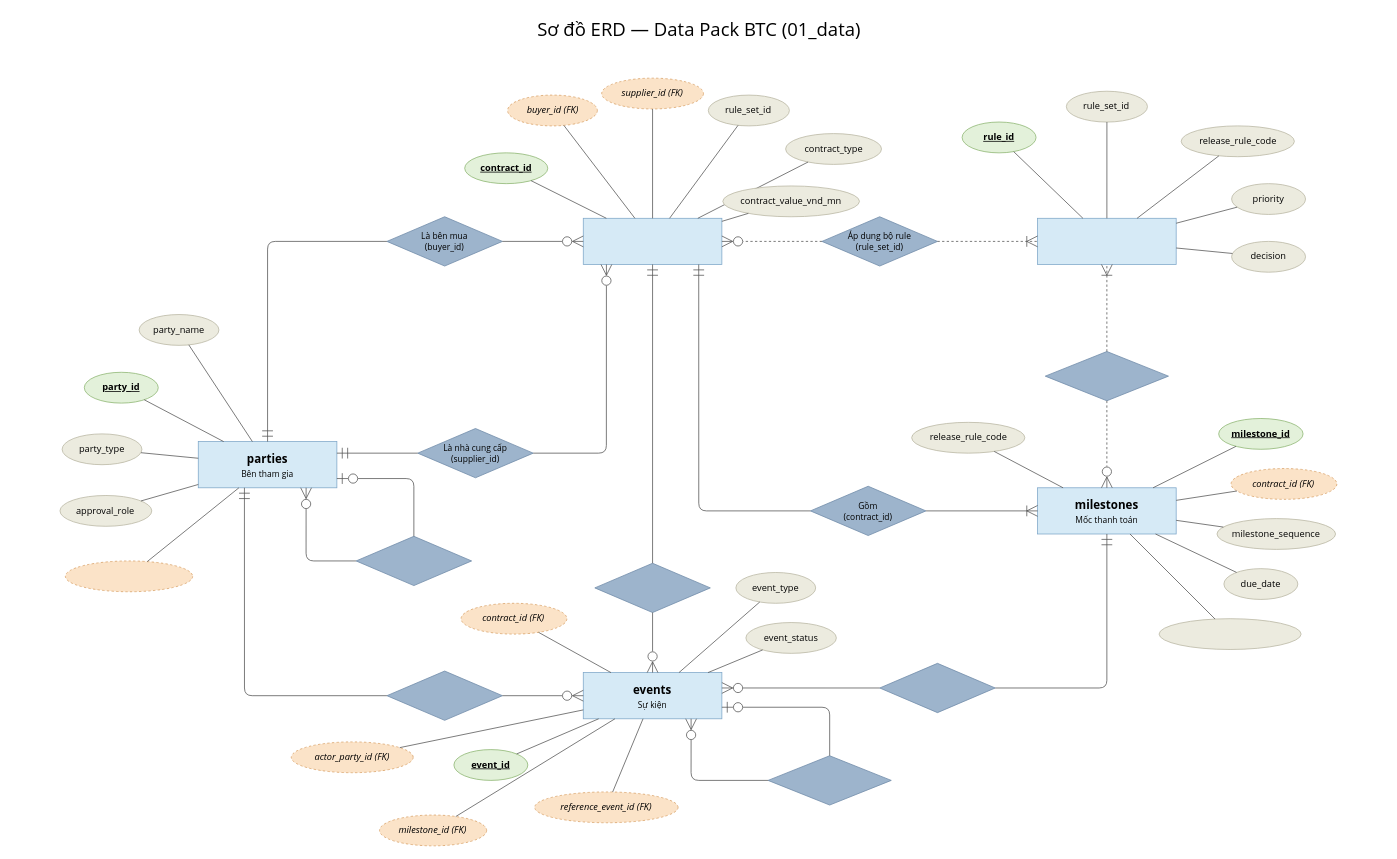
This 1397x859 diagram has some shape labels left out. Each missing label, with the centre of its shape:
contracts Hợp đồng: the point at 652,241
Ghi nhận (milestone_id): the point at 937,688
Khớp mã rule (release_rule_code): the point at 1106,376
parent_party_id (FK): the point at 129,576
payment_rules Quy tắc thanh toán: the point at 1106,241
Phát sinh (contract_id): the point at 652,587
planned_payment_vnd_mn: the point at 1229,633
Tham chiếu (reference_event_id): the point at 829,780
Trực thuộc (parent_party_id): the point at 413,561
Tạo sự kiện (actor_party_id): the point at 444,695
